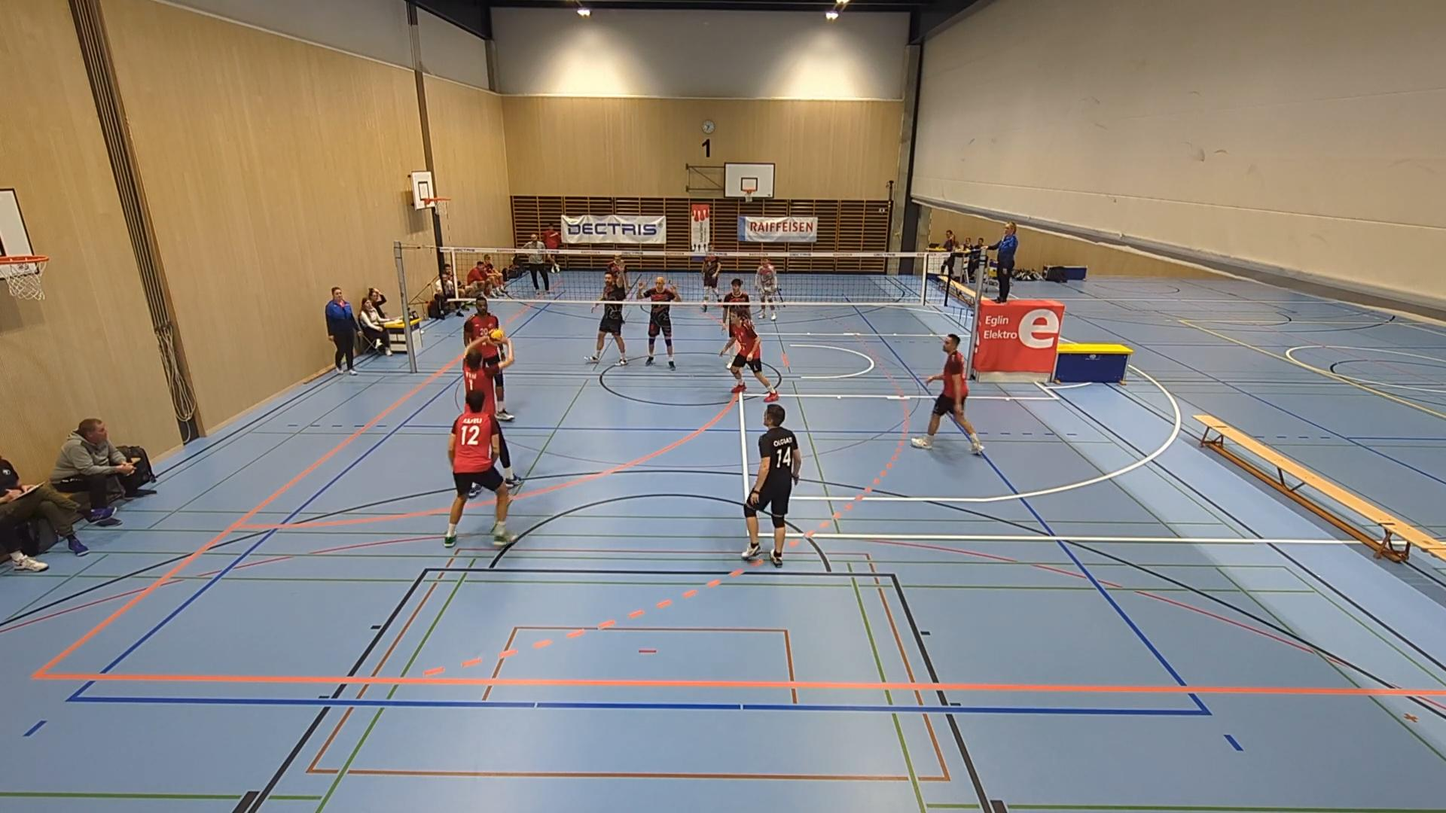Player: (444, 390, 511, 547), (742, 404, 802, 567), (911, 333, 984, 454), (719, 317, 778, 402), (587, 272, 627, 365), (639, 276, 679, 368), (479, 334, 514, 421), (723, 278, 750, 330), (755, 257, 777, 319), (701, 253, 721, 312), (607, 254, 629, 289)
Receive: (454, 332, 525, 423)
ball: (485, 328, 506, 339)
